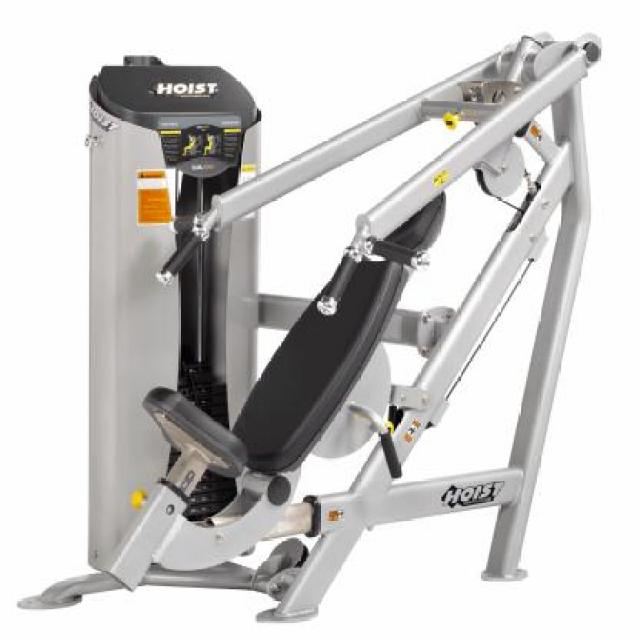shoulder press machine: (17, 7, 631, 640)
